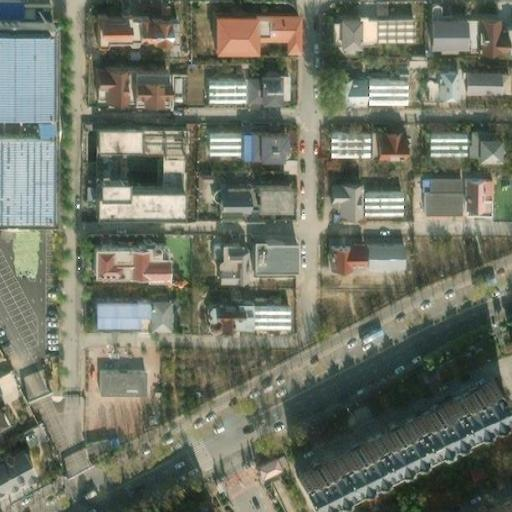building: (296, 375, 502, 496), (94, 246, 166, 280), (90, 187, 178, 211), (327, 239, 394, 268), (211, 11, 255, 53), (338, 74, 401, 102), (87, 63, 128, 105), (255, 11, 295, 53), (417, 175, 460, 214), (89, 299, 142, 330), (422, 17, 470, 51), (237, 70, 280, 103), (212, 241, 246, 282), (203, 300, 247, 331), (128, 70, 165, 105), (470, 17, 508, 51), (246, 241, 289, 271), (0, 447, 30, 490), (59, 445, 96, 479), (132, 127, 178, 154), (328, 14, 362, 50), (235, 132, 281, 158), (325, 179, 357, 216), (20, 368, 53, 403), (94, 364, 138, 390), (90, 127, 132, 154), (213, 182, 253, 210), (461, 128, 496, 160), (247, 300, 283, 331), (328, 127, 370, 153), (454, 66, 494, 93), (357, 190, 397, 216), (362, 14, 404, 38), (130, 19, 170, 44), (199, 73, 237, 99), (418, 66, 454, 93), (93, 19, 130, 44), (425, 128, 461, 153), (90, 154, 116, 187), (460, 175, 482, 214), (253, 182, 282, 210), (370, 127, 401, 153), (156, 154, 178, 187), (142, 299, 165, 330), (201, 132, 235, 151), (246, 271, 289, 282), (0, 403, 14, 431)
